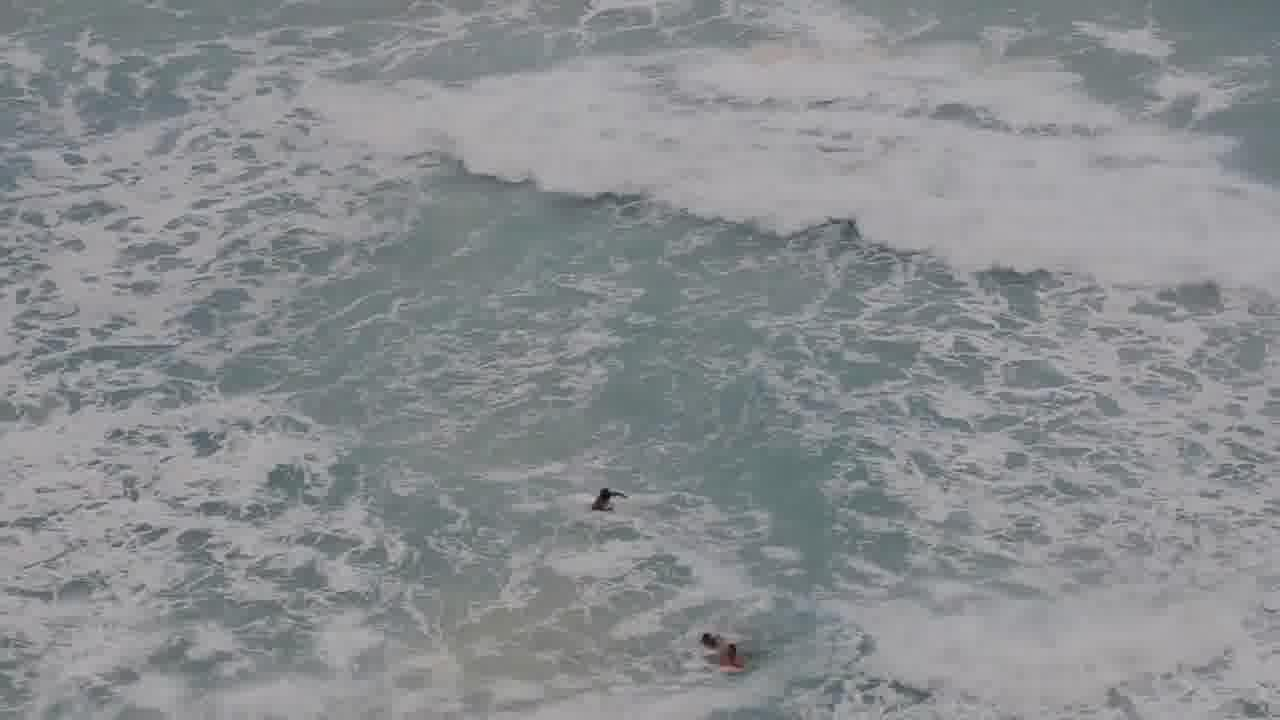human: (585, 463, 622, 537), (728, 640, 745, 679), (703, 621, 714, 655)
